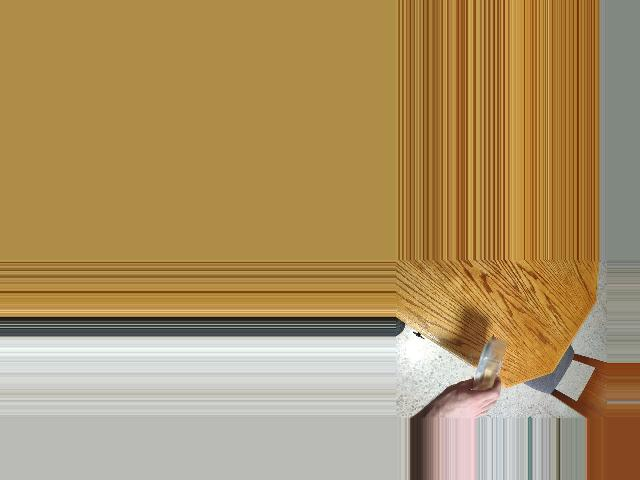cheese: (470, 345, 510, 390)
